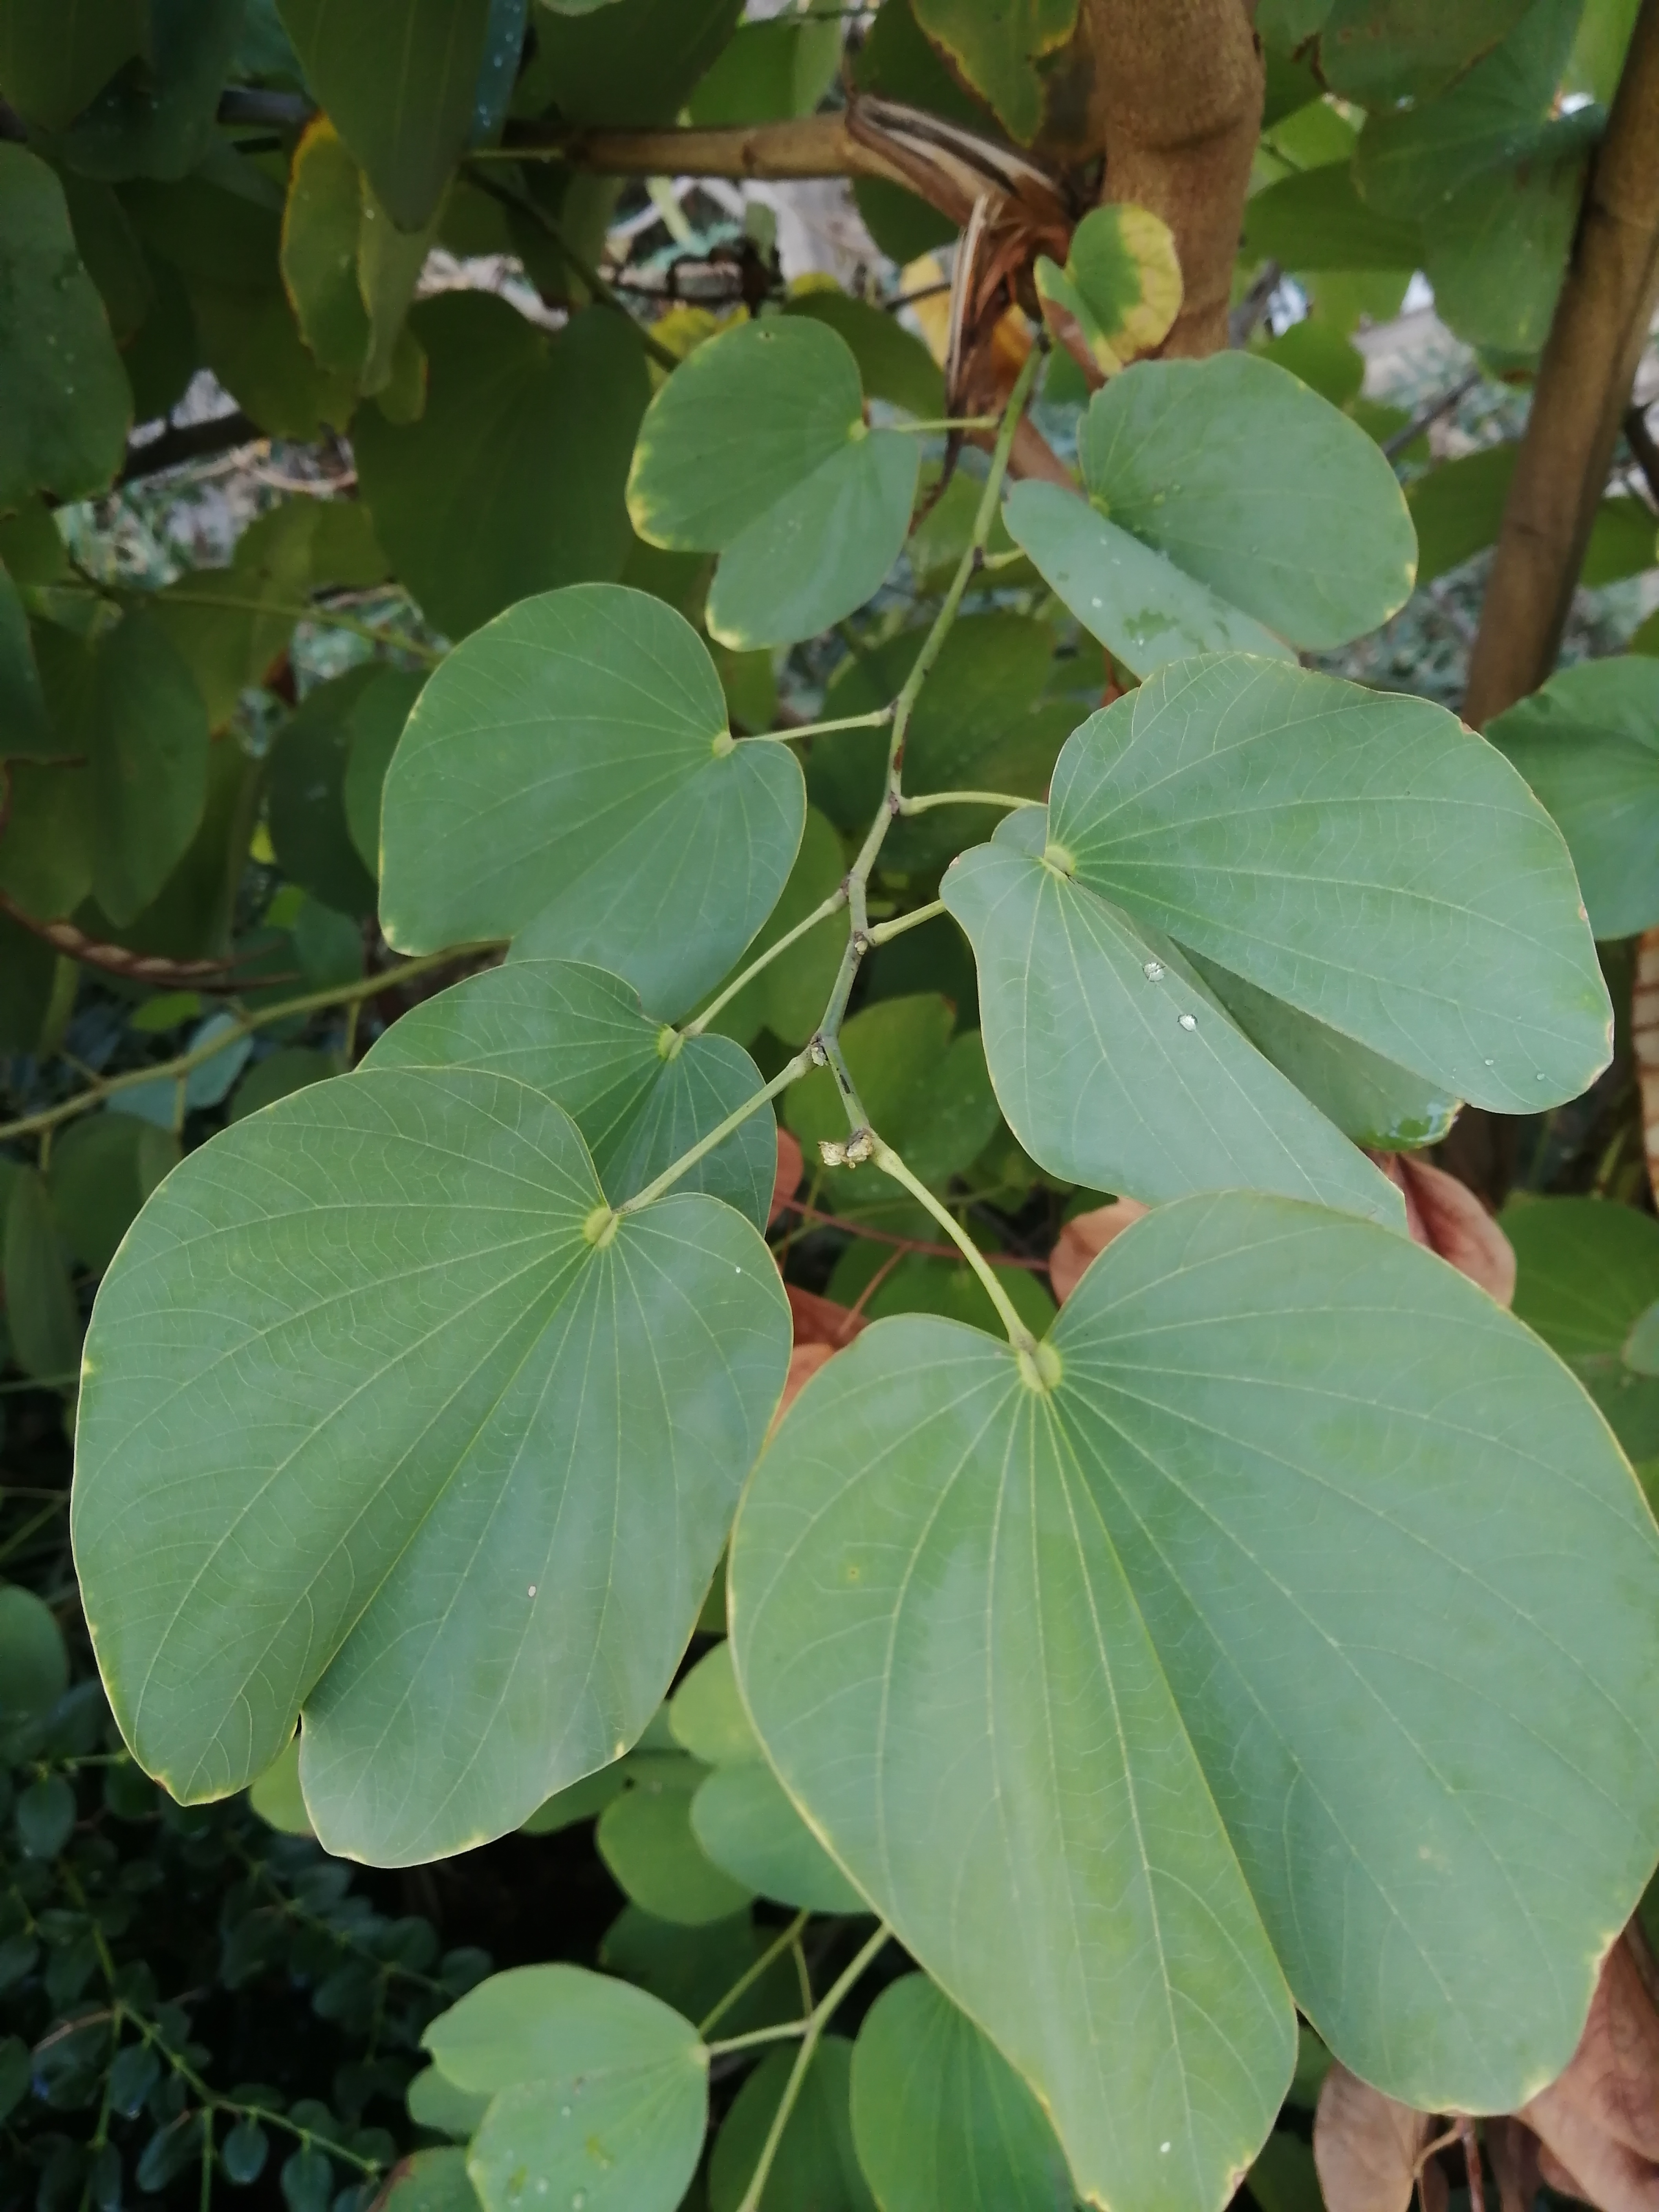healthy: (751, 1251, 1659, 2188), (37, 975, 741, 1869), (967, 657, 1617, 1245), (415, 577, 802, 1066), (1033, 322, 1441, 704)
